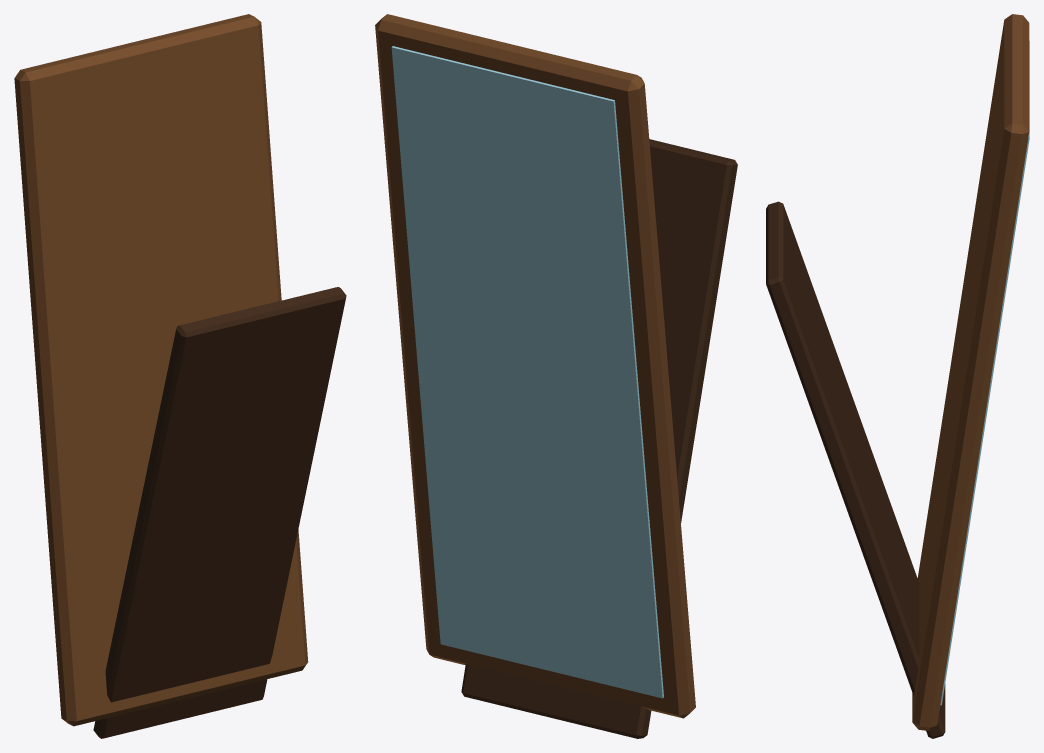
The model's file is prop_standing_mirror.obj.
3 views of the same model, side by side, from view 1: azimuth 30°, elevation 25°; view 2: azimuth 150°, elevation 25°; view 3: azimuth 270°, elevation 25° (orthographic). The views are drawn at different scales.
Parts seen in each view (by area): view 1: Frame, Easel; view 2: Glass, Frame, Easel; view 3: Frame, Easel, Glass.
Boxes of the visible parts, x1,y1,x2,y2 form: Frame: (14, 14, 308, 726); Easel: (93, 287, 346, 738); Glass: (391, 46, 663, 698); Frame: (375, 14, 695, 718); Easel: (461, 139, 737, 738); Frame: (912, 14, 1029, 730); Easel: (766, 201, 945, 738); Glass: (940, 40, 1029, 705).
Size of the model in its own units: 0.76 by 1.94 by 0.7337.
